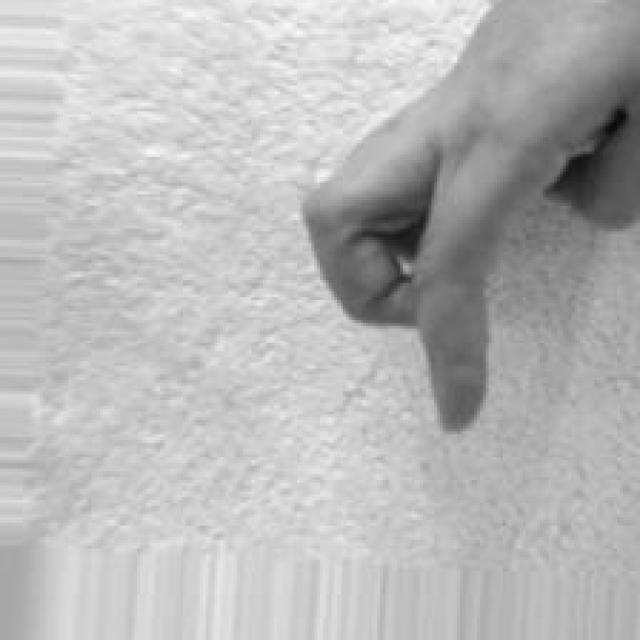P: (285, 2, 640, 435)
